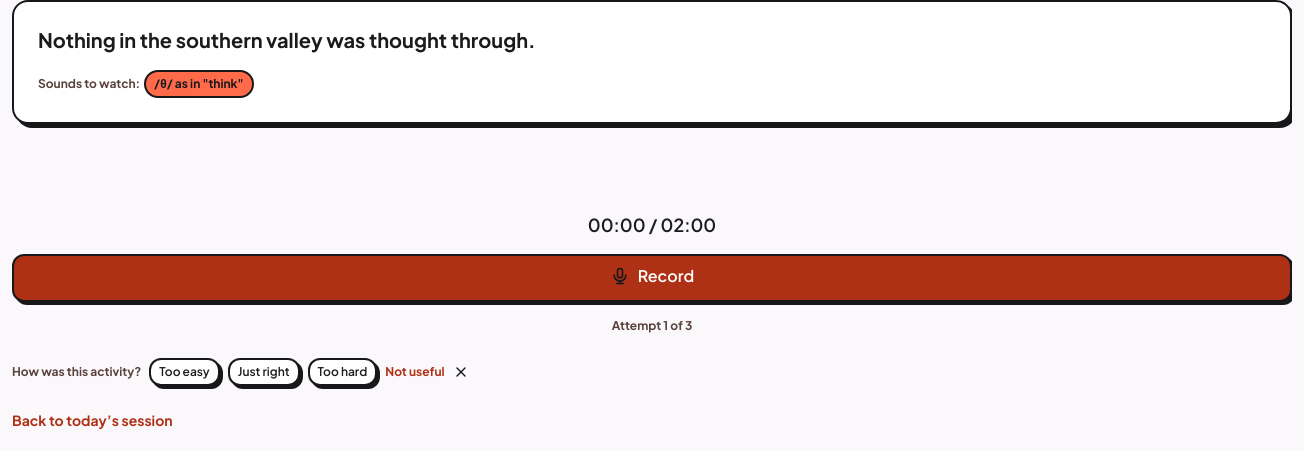
Test: SpeakingRunner › maps_a_denied_microphone_to_the_blocked_gate
The width and height of the screenshot is (1304, 451).
Click the button with aria-label "Start recording" at (652, 278), box [12,254,1292,302]
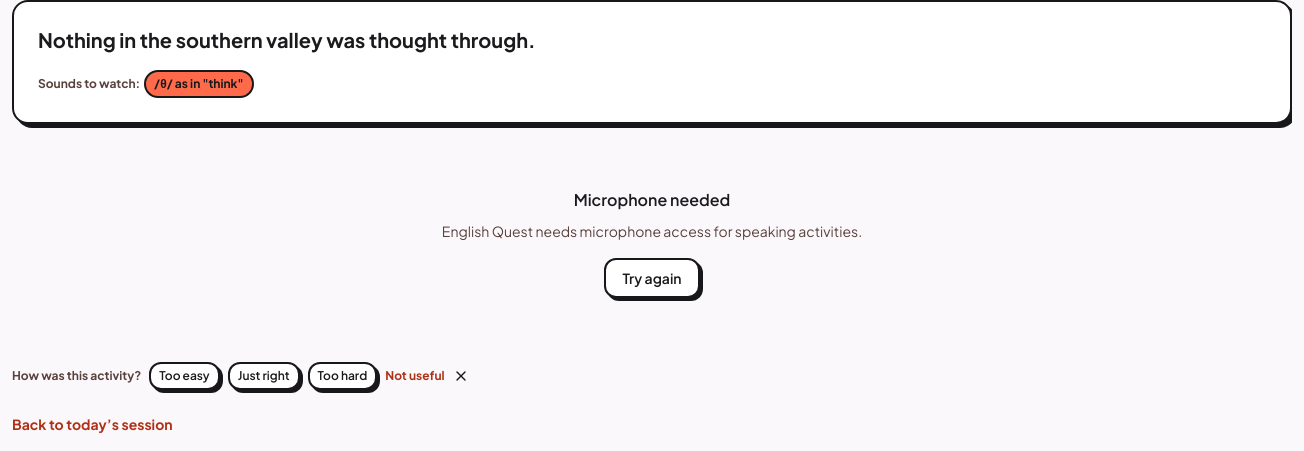
Expected: the text "English Quest needs microphone access for speaking activities." is shown, [442,220,862,242]
